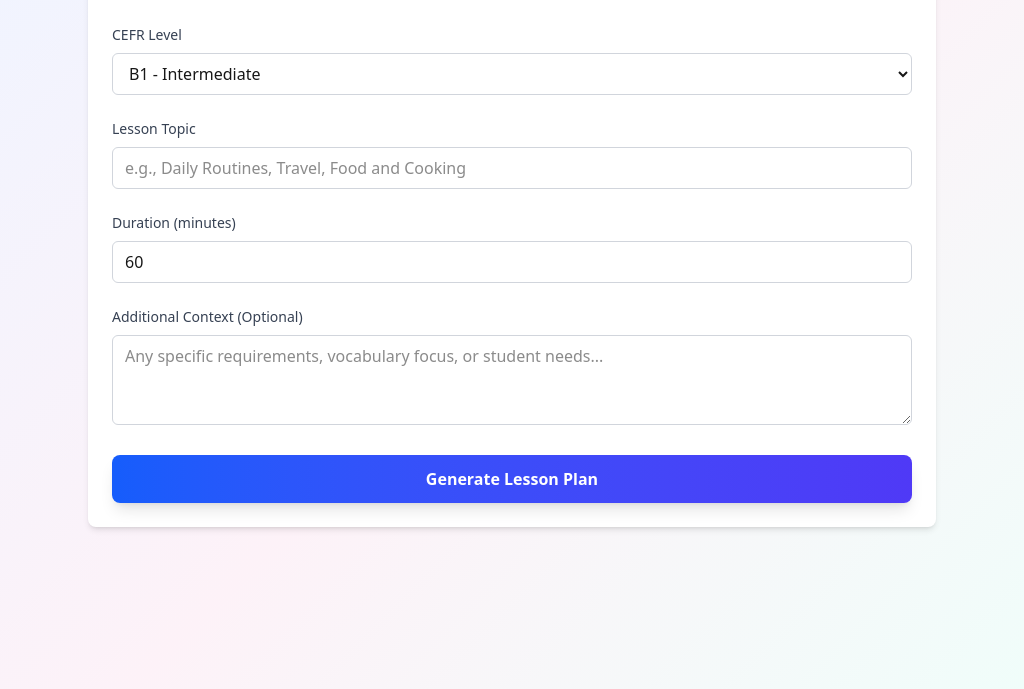
Test: LessonPlannerForm Component › should display materials list when present
Step 1. Type "Test" into the field labelled "Lesson Topic" → (512, 168), box x1=112 y1=147 x2=912 y2=189
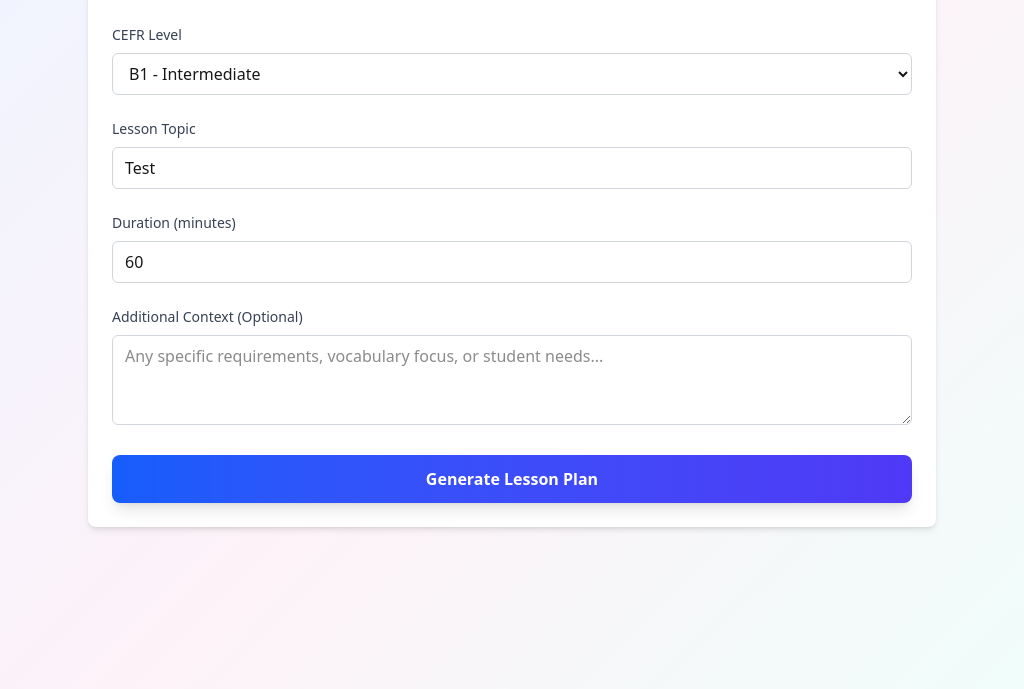
Step 2. Click the button "Generate Lesson Plan" → (512, 479), box x1=112 y1=455 x2=912 y2=503
(page scrolled)
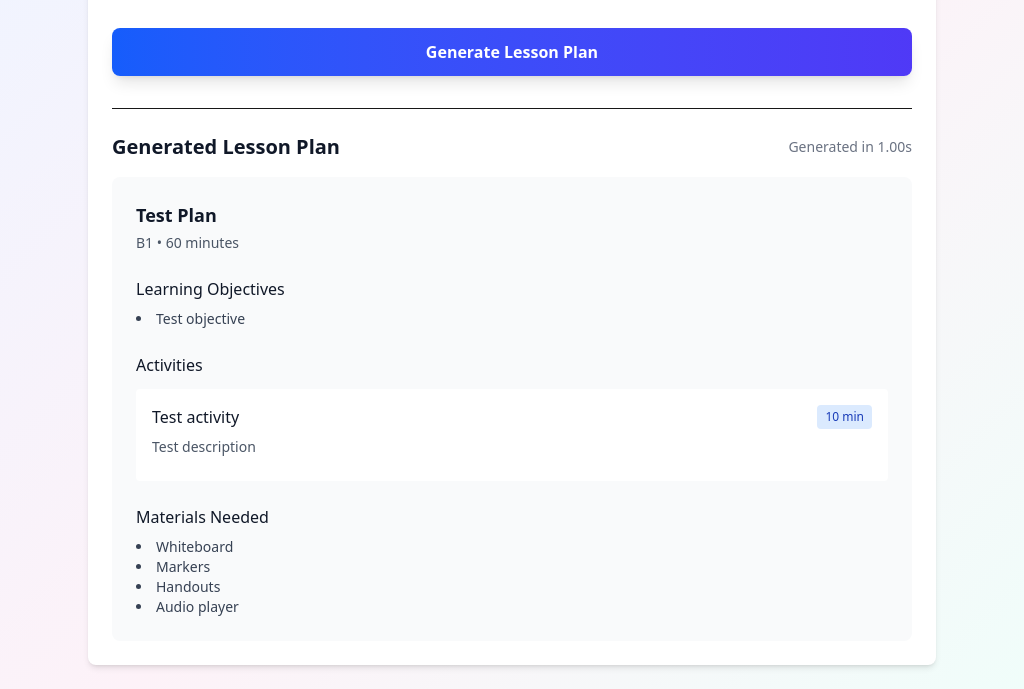
Expected: the heading "Materials Needed" is shown, x1=136 y1=506 x2=269 y2=528
Expected: the list item "Whiteboard" is shown, x1=156 y1=537 x2=233 y2=556
Expected: the list item "Markers" is shown, x1=156 y1=557 x2=210 y2=576
